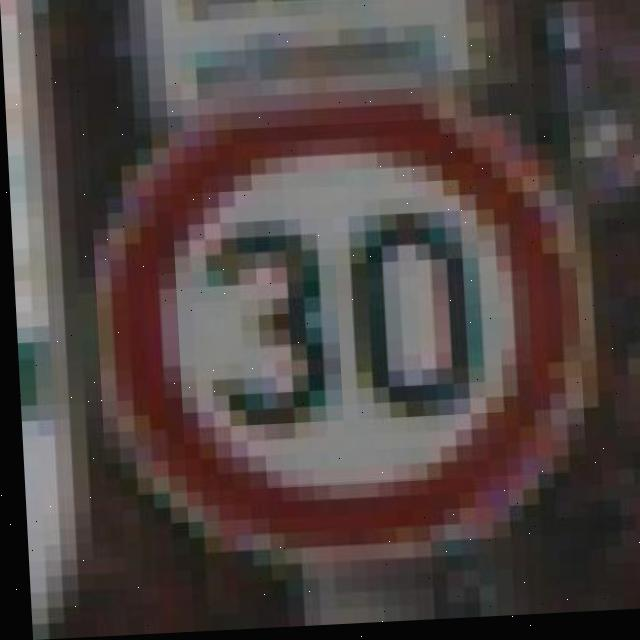Speed limit 30: (88, 81, 586, 559)
